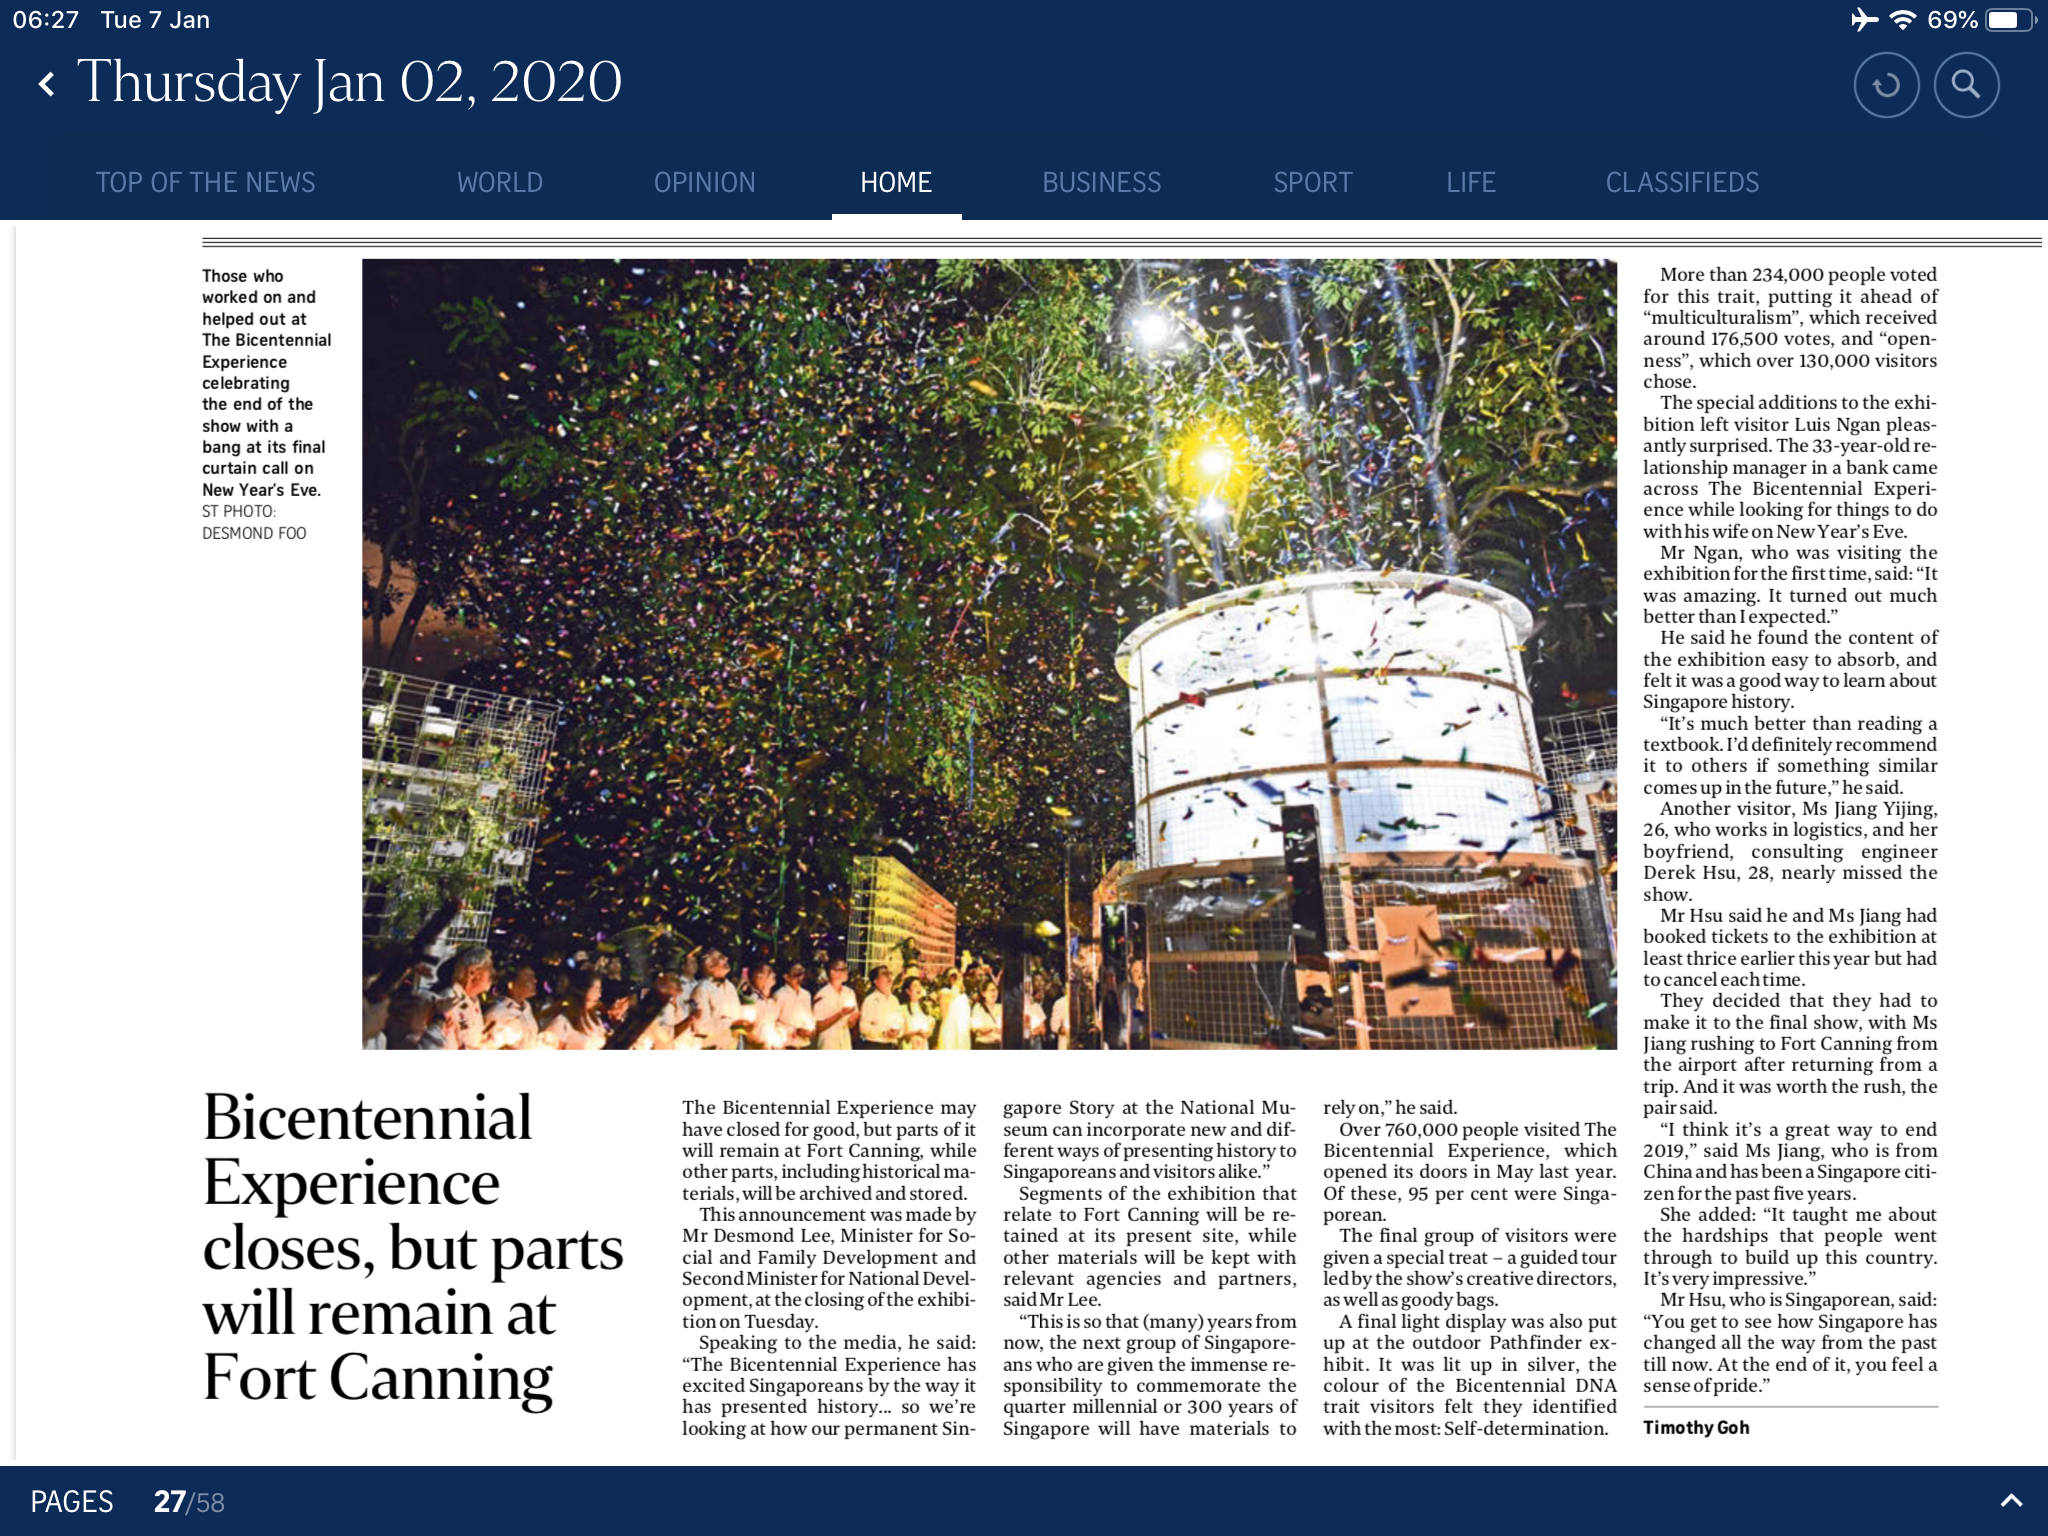Byline: (1642, 1413, 1753, 1441)
Headline: (192, 1084, 634, 1418)
Illustration: (197, 252, 340, 544)
Image: (360, 255, 1622, 1050)
Text: (1634, 260, 1961, 1397), (672, 1092, 984, 1447), (997, 1094, 1308, 1447), (1314, 1094, 1622, 1446)
